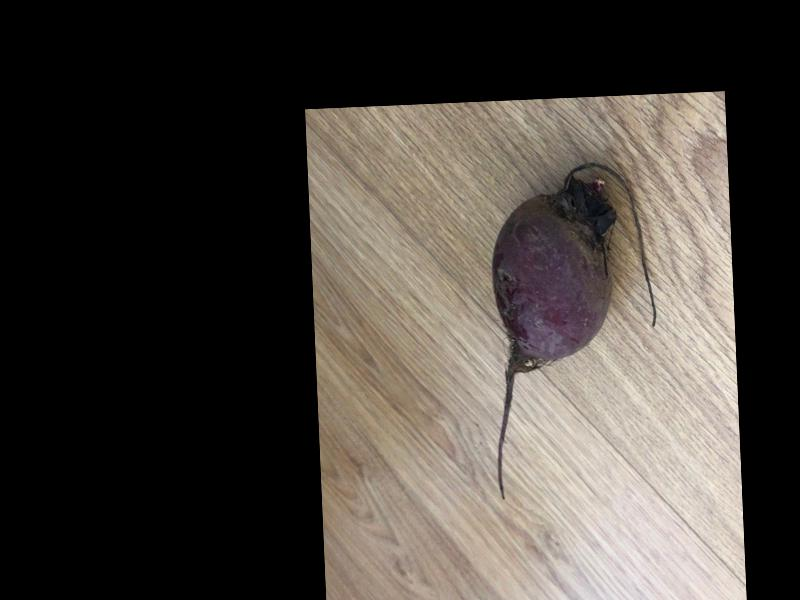Beet: (483, 160, 663, 499)
